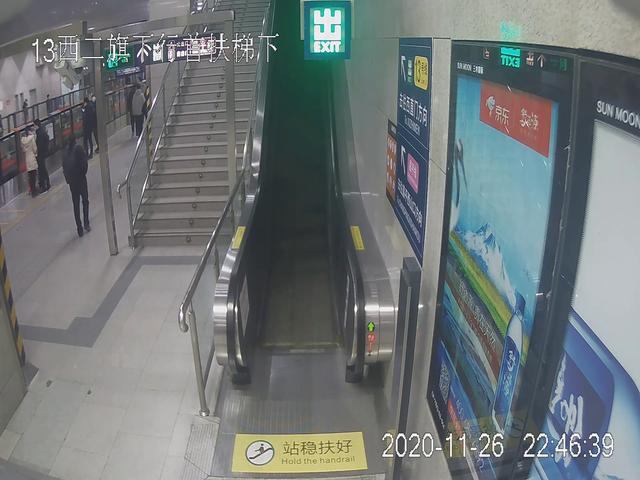person: (63, 133, 93, 238), (32, 117, 48, 194), (22, 126, 39, 195), (82, 92, 99, 157), (131, 82, 147, 133)
